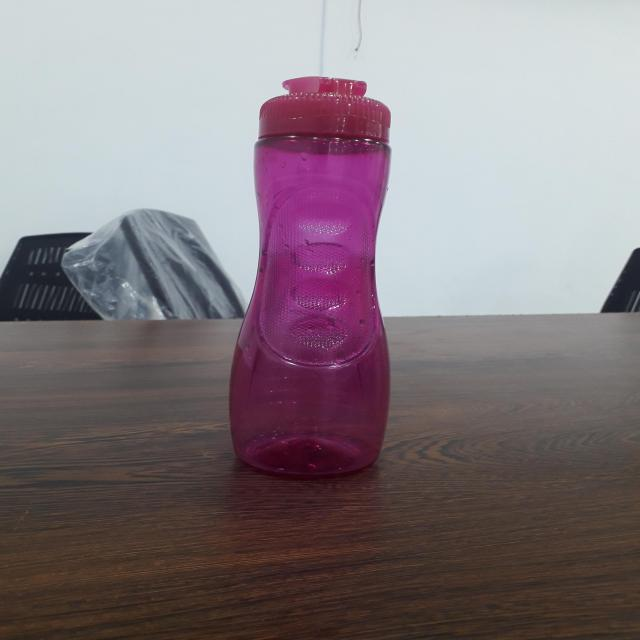gym bottle: (223, 70, 398, 483)
